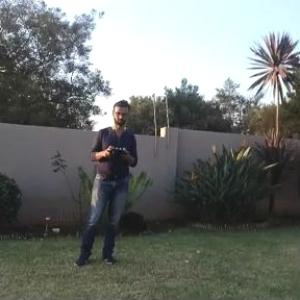follow: (70, 95, 142, 268)
